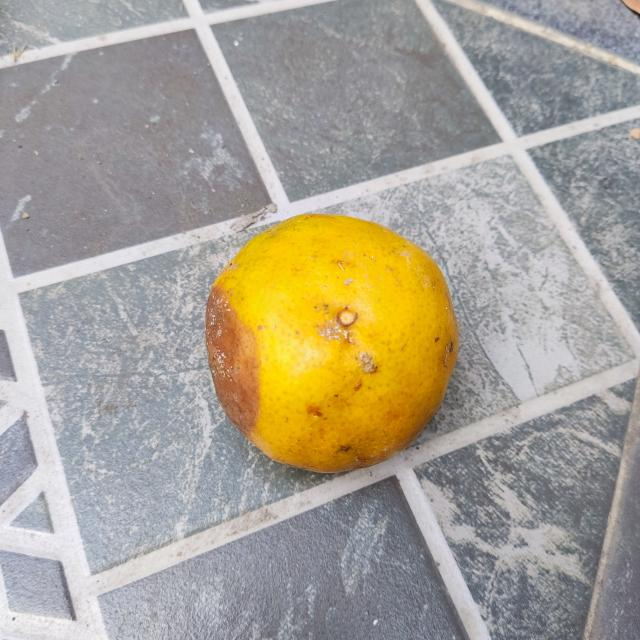orange: (204, 210, 460, 476)
